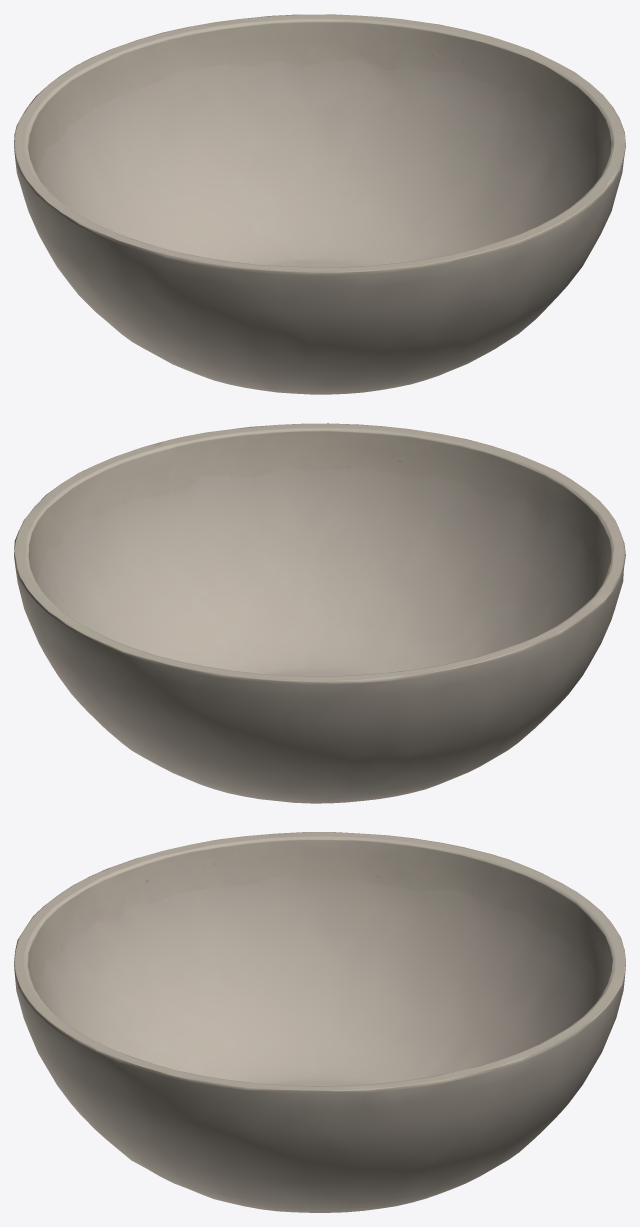
The model's file is cream-bowl-coffee-table.glb.
The picture shows the model from 3 angles, top to bottom: view 1: azimuth 30°, elevation 25°; view 2: azimuth 150°, elevation 25°; view 3: azimuth 270°, elevation 25°; orthographic projection.
Parts seen in each view (by area): view 1: Cream Bowl Coffee Table; view 2: Cream Bowl Coffee Table; view 3: Cream Bowl Coffee Table.
Part boxes in pixels (x1=…): Cream Bowl Coffee Table: x1=14, y1=14, x2=625, y2=394; Cream Bowl Coffee Table: x1=14, y1=423, x2=625, y2=803; Cream Bowl Coffee Table: x1=14, y1=832, x2=625, y2=1212.
Size of the model in its own units: 0.998 by 0.3379 by 0.998.
Materials: 1 (1 with a texture image).
